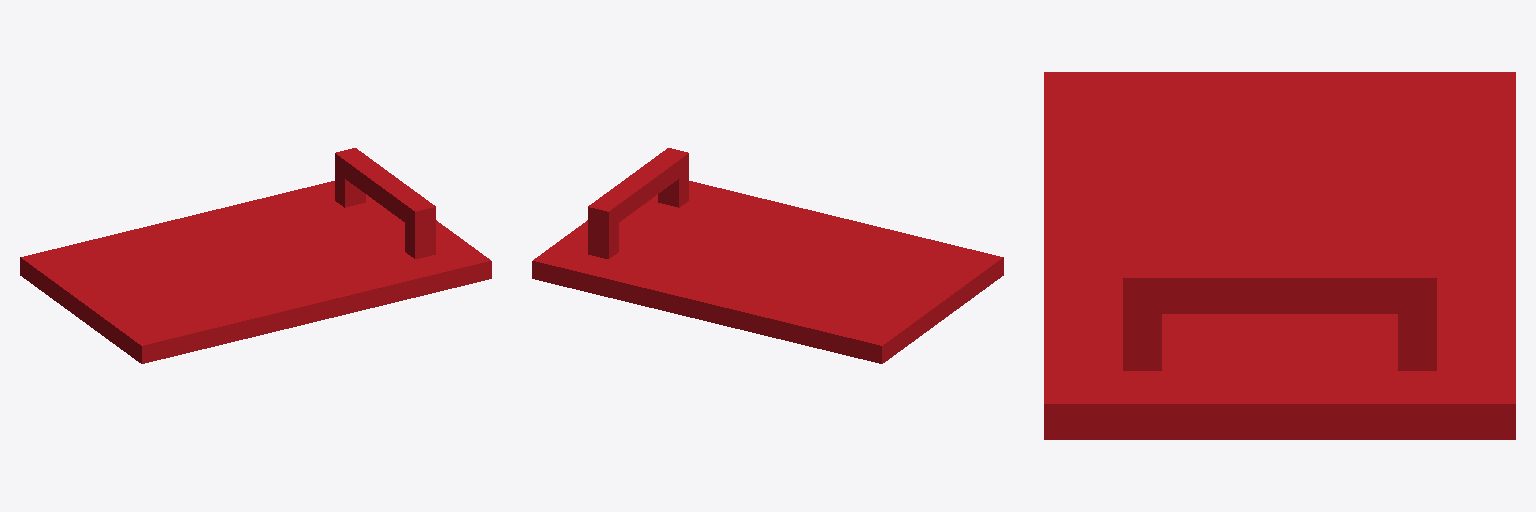
The robot description file, URDF, robot "door":
<?xml version="1.0" ?>
<robot name="door">
  <link name="world"/>

  <joint name="door_to_world" type="revolute">
    <parent link="world"/>
    <child link="base_link"/>
    <origin xyz="0.25 0.0 0.3" rpy="0 0 0" />
    <axis
      xyz="0 1 0" />
    <limit
      lower="-3.14"
      upper="3.14"
      effort="0"
      velocity="6.545" />
  </joint>

  <link name="base_link">
    <inertial>
       <origin rpy="0 0 0" xyz="0 0 0"/>
       <mass value="0.01125"/>
       <inertia ixx="2.83203125E-06" ixy="0" ixz="-3.38813179E-22" iyy="7.83203125E-06" iyz="8.47032947E-23" izz="1.06250000E-05"/>
    </inertial>
    <visual>
      <origin rpy="0 0 0" xyz="0 0 0"/>
      <geometry> <mesh filename="door.obj" scale="1.0 1.0 1.0"/> </geometry>
      <material name="white"> <color rgba="0.7843137254901961 0.1411764705882353 0.17254901960784313 1.0"/> </material>
    </visual>
    <collision>
      <origin rpy="0 0 0" xyz="0 0 0"/>
      <geometry> <mesh filename="door.obj" scale="1.0 1.0 1.0"/> </geometry>
    </collision>
  </link>
</robot>

--- What the picture shows (computed from the rendered views, not written in the file) ---
The picture shows the robot from 3 angles, left to right: view 1: azimuth 30°, elevation 25°; view 2: azimuth 150°, elevation 25°; view 3: azimuth 270°, elevation 25°; orthographic projection.
Robot: door — 2 links, 1 joints (1 revolute); root link world; default pose: every joint at zero.
Visible links, largest first — view 1: base_link; view 2: base_link; view 3: base_link.
Boxes of the visible links, x1,y1,x2,y2 form: base_link: [20, 148, 491, 363]; base_link: [532, 148, 1003, 363]; base_link: [1044, 72, 1515, 439].
Size in the robot's own frame: 0.5 by 0.3 by 0.09 metres.
1 mesh visuals loaded from 1 distinct referenced files (1 OBJ).